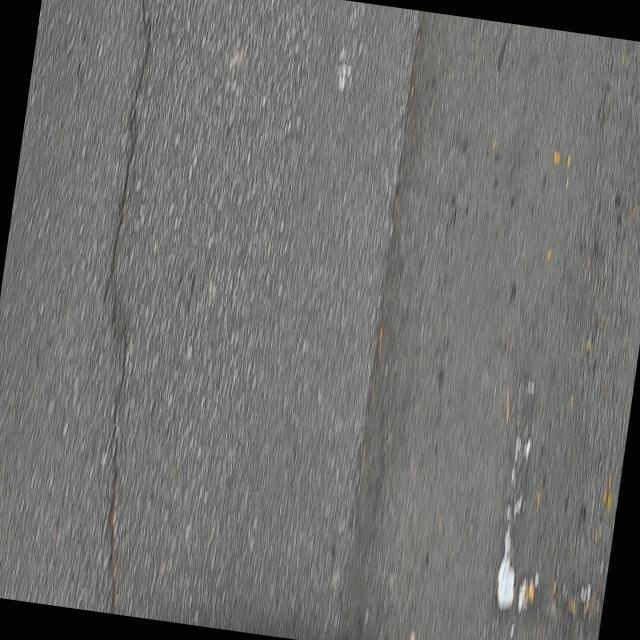Retak-Memanjang: (97, 0, 159, 613)
